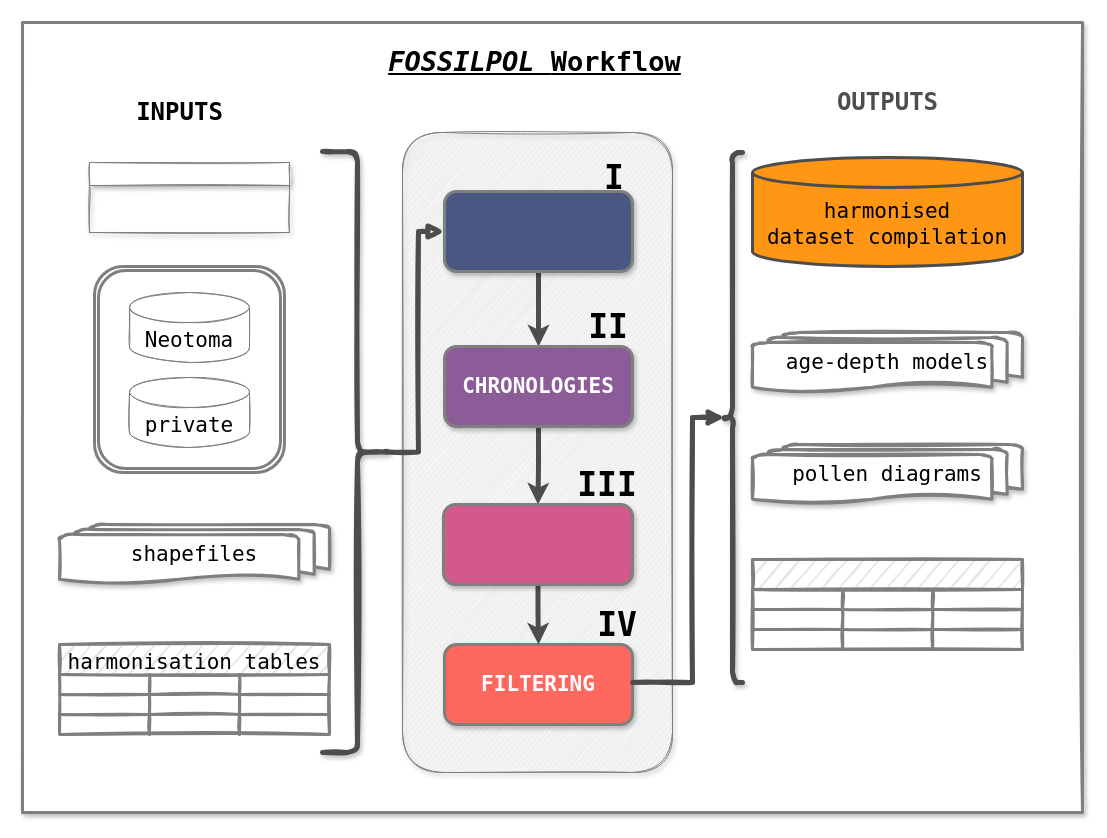
The diagram is 1107 pixels wide and 838 high, and some of its shapes have lost their labels. The shapes that lost their labels are listed below. From the top down, each one's centre as x and y in pixels, then its label:
At point (190, 199): "config file".
At point (539, 233): "SOURCING".
At point (539, 545): "HARMONISATION".
At point (887, 604): "citation metadata".
